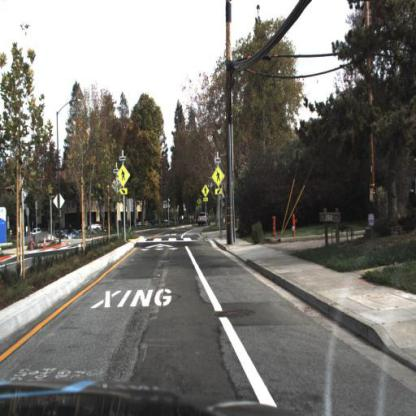car: (196, 212, 210, 227)
